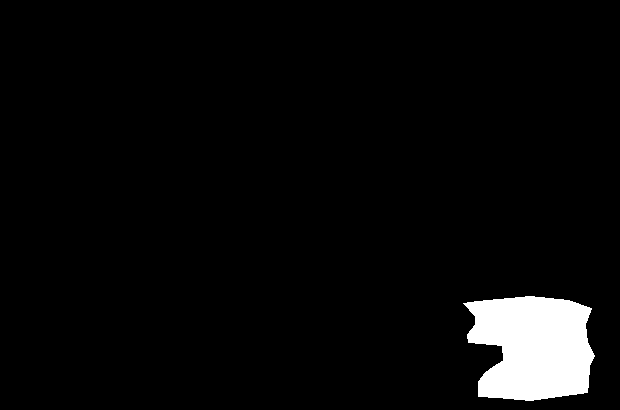type4: (461, 294, 599, 401)
